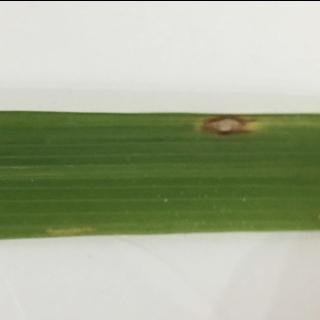Blast: (184, 102, 284, 142)
